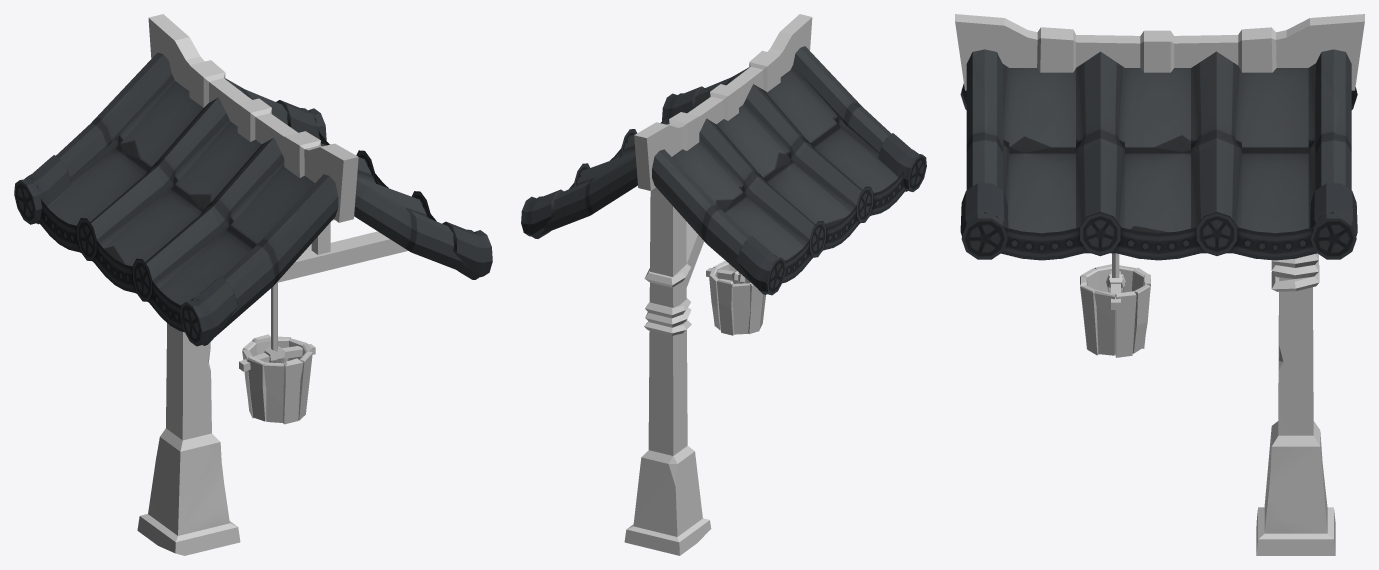
The model's file is SM_Prop_Well_Roof_01.fbx.
3 renders of one model, left to right at view 1: azimuth 30°, elevation 25°; view 2: azimuth 150°, elevation 25°; view 3: azimuth 270°, elevation 25°, orthographic. The views are drawn at different scales.
Visible parts, largest first — view 1: SM_Prop_Well_Roof_01; view 2: SM_Prop_Well_Roof_01; view 3: SM_Prop_Well_Roof_01.
Part boxes in pixels (x1,y1,x2,y2): SM_Prop_Well_Roof_01: (14,14,492,555); SM_Prop_Well_Roof_01: (521,14,926,555); SM_Prop_Well_Roof_01: (955,14,1364,555).
Size of the model in its own units: 204 by 330 by 235.
